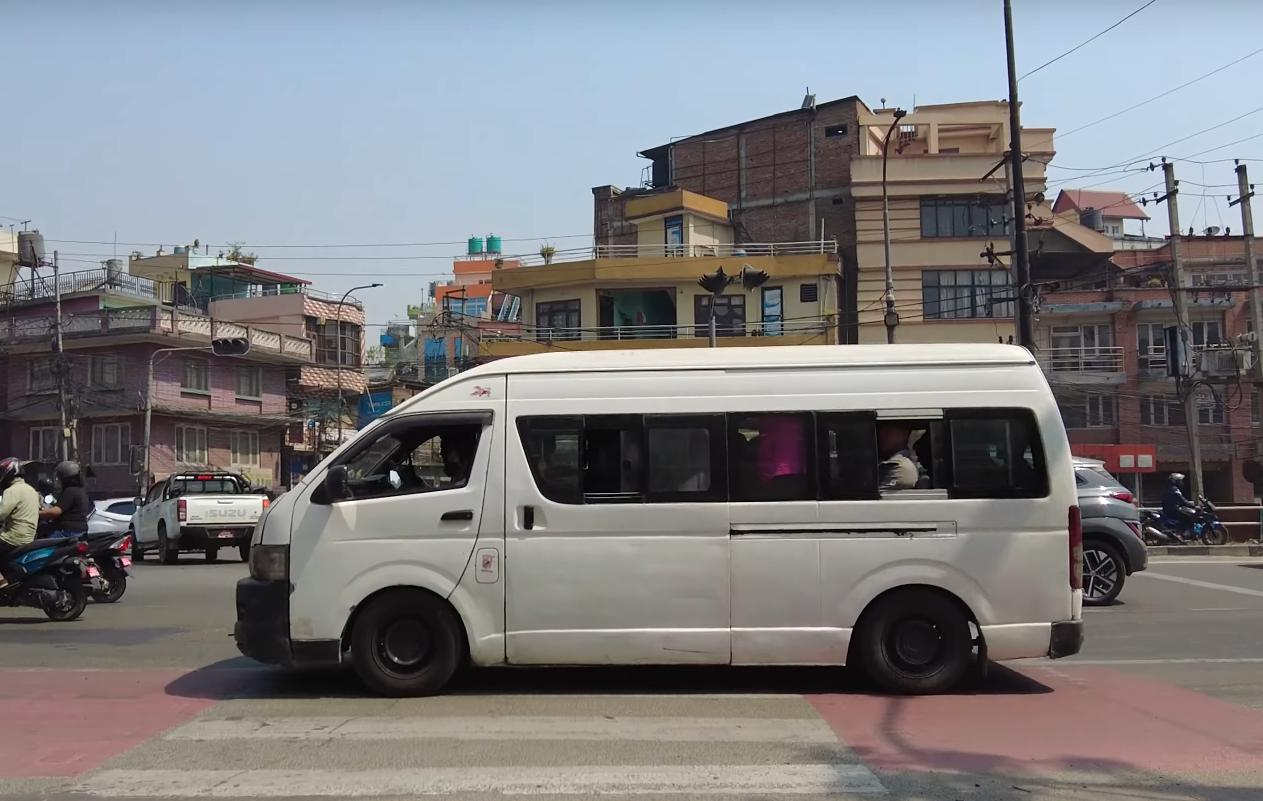bike: (1139, 497, 1231, 547)
car: (1066, 453, 1148, 609)
micro_bus: (221, 322, 1089, 706)
scooter: (0, 534, 98, 626)
